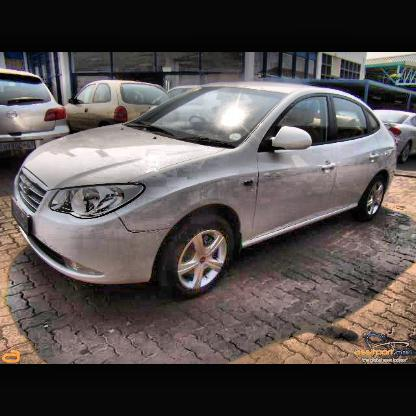Hyundai Elantra Sedan 2007: (10, 80, 399, 302)
